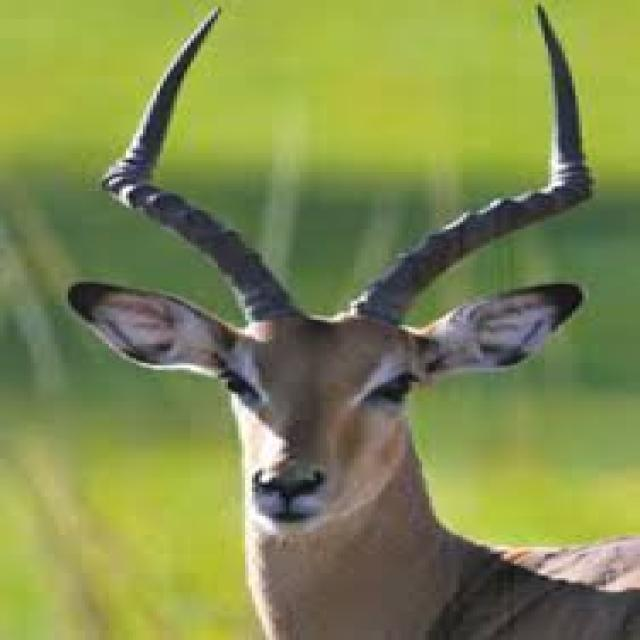Antelope: (49, 2, 640, 632)
